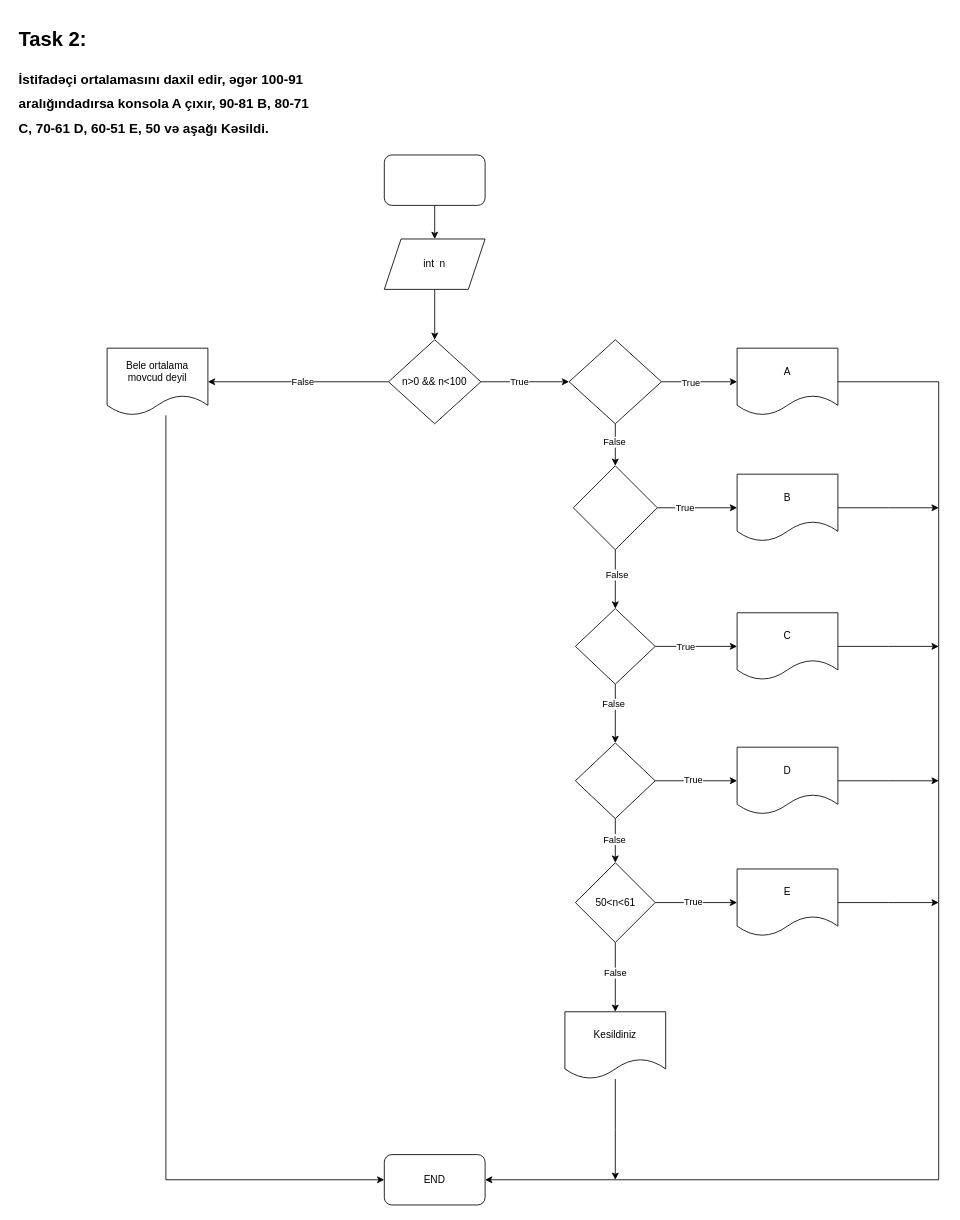
Some shapes in this 960 by 1220 pixel diagram are drawn without their labels. The box of each missing label's shape, as (x1, y1, x2, y2) in pixels:
60<n<71: (575, 742, 655, 819)
70<n<81: (575, 608, 655, 684)
80<n<91: (572, 465, 657, 550)
90<n<101: (568, 339, 662, 424)
START: (383, 154, 485, 205)
